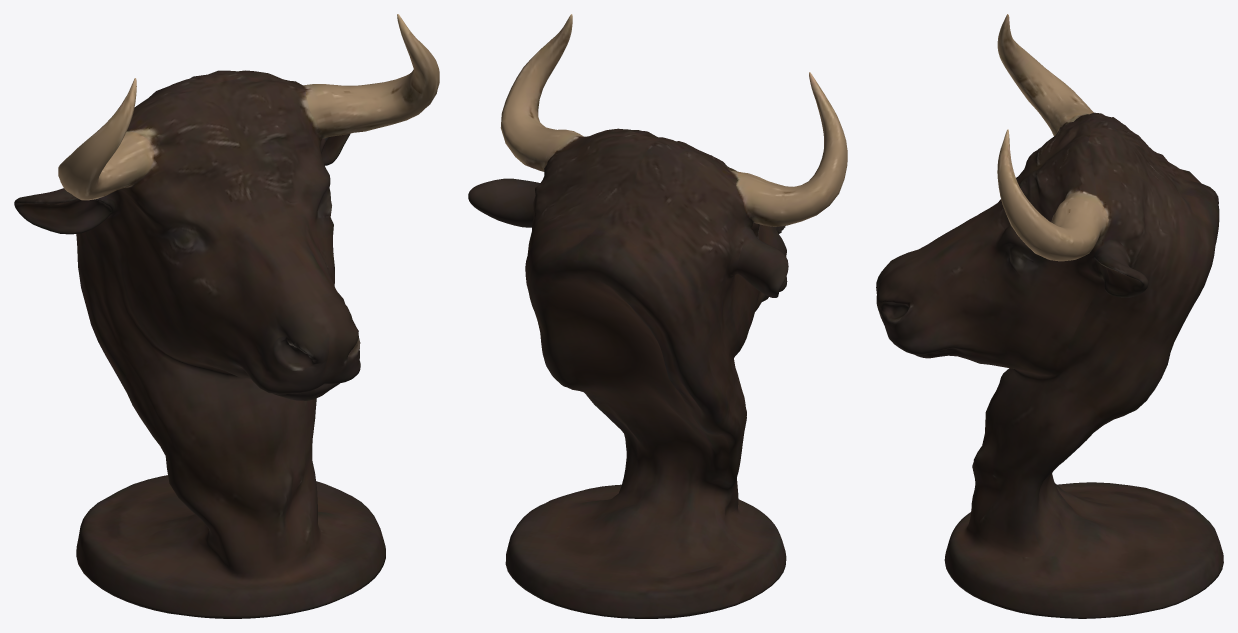
Rendered from bull_head.glb.
The picture shows the model from 3 angles, left to right: view 1: azimuth 30°, elevation 25°; view 2: azimuth 150°, elevation 25°; view 3: azimuth 270°, elevation 25°; orthographic projection. The views are drawn at different scales.
Visible parts, largest first — view 1: bull_head; view 2: bull_head; view 3: bull_head.
Boxes of the visible parts, x1,y1,x2,y2 form: bull_head: [14, 14, 439, 618]; bull_head: [468, 14, 847, 618]; bull_head: [876, 14, 1223, 618].
Size of the model in its own units: 0.3063 by 0.433 by 0.2808.
Materials: 1 (1 with a texture image).
